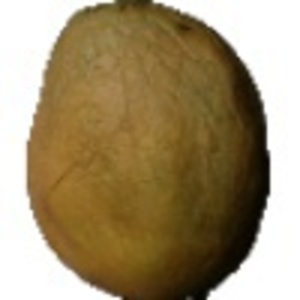mamão: (17, 3, 274, 297)
